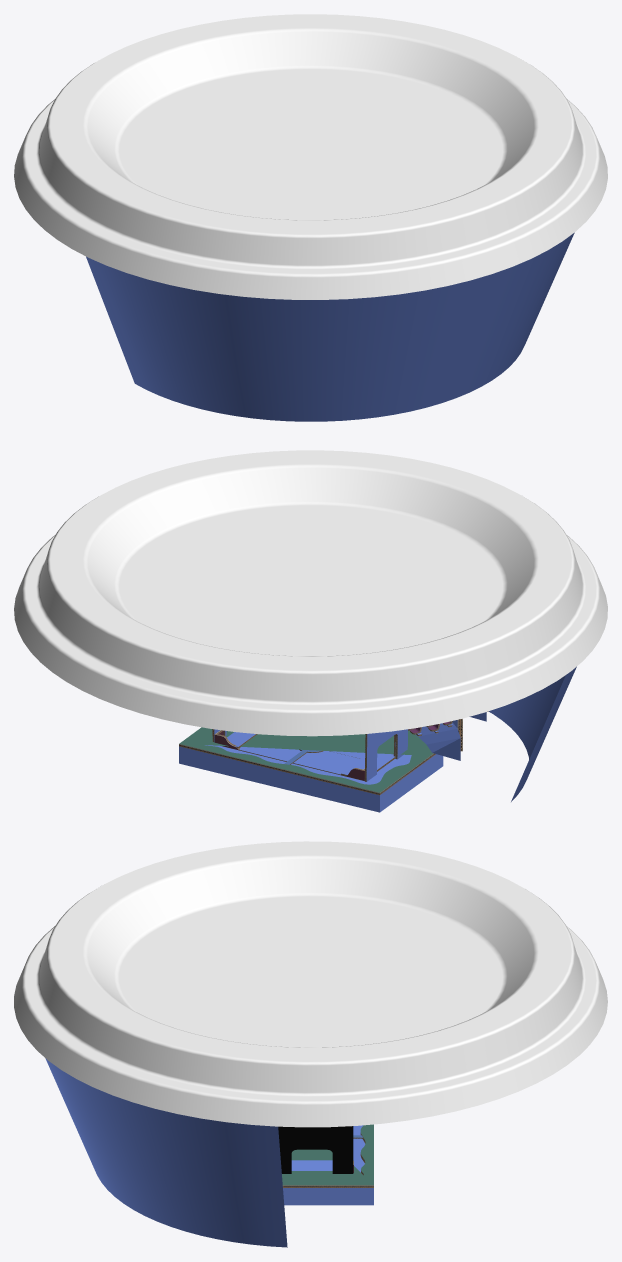
The model's file is Areena.fbx.
3 views of the same model, one above another, from view 1: azimuth 30°, elevation 25°; view 2: azimuth 150°, elevation 25°; view 3: azimuth 270°, elevation 25° (orthographic).
Visible parts, largest first — view 1: Plane.001; view 2: Plane.001; view 3: Plane.001.
Part boxes in pixels (bbox=[...]): Plane.001: bbox=[14, 14, 607, 421]; Plane.001: bbox=[14, 450, 607, 812]; Plane.001: bbox=[14, 841, 607, 1247].
Bounding box in the file's own units: 6334 × 2413 × 6333.
3 materials, 1 textured.
